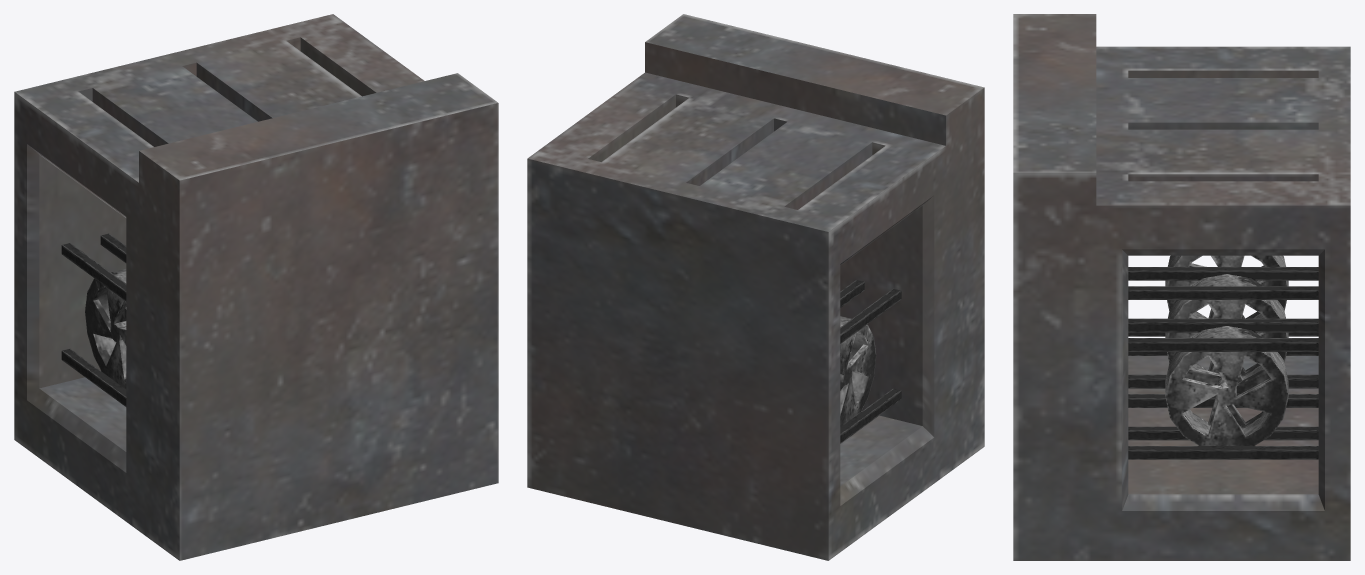
Rendered from Crane panel.fbx.
3 renders of one model, left to right at view 1: azimuth 30°, elevation 25°; view 2: azimuth 150°, elevation 25°; view 3: azimuth 270°, elevation 25°, orthographic. The views are drawn at different scales.
Parts seen in each view (by area): view 1: Cube.032, Cylinder.012, Cube.058; view 2: Cube.032, Cylinder.012, Cube.058; view 3: Cube.032, Cube.058, Cylinder.012.
Part boxes in pixels (x1,y1,x2,y2): Cube.032: [14, 14, 498, 560]; Cylinder.012: [85, 269, 126, 389]; Cube.058: [61, 233, 126, 406]; Cube.032: [527, 14, 984, 560]; Cylinder.012: [840, 316, 876, 426]; Cube.058: [840, 279, 901, 443]; Cube.032: [1013, 14, 1350, 560]; Cube.058: [1128, 267, 1318, 459]; Cylinder.012: [1165, 255, 1288, 445].
Size of the model in its own units: 78.22 by 89.19 by 70.24.
